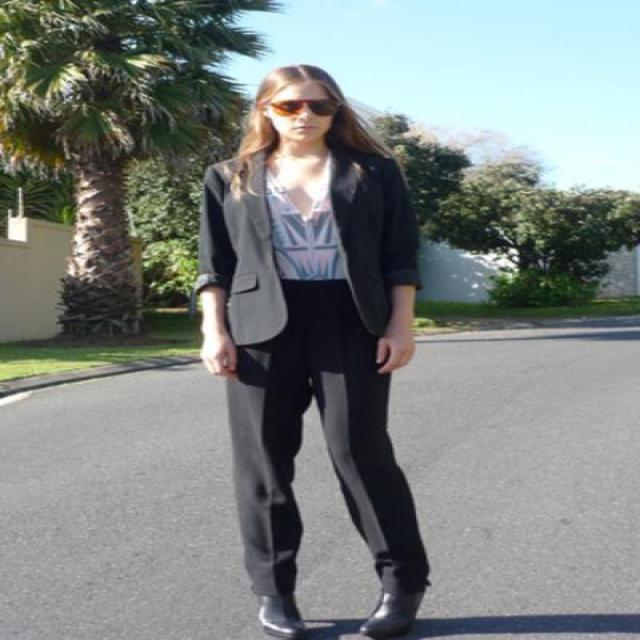jacket: (168, 145, 421, 370)
pants: (219, 273, 429, 622)
shirt: (230, 148, 350, 287)
shoe: (264, 576, 424, 639)
